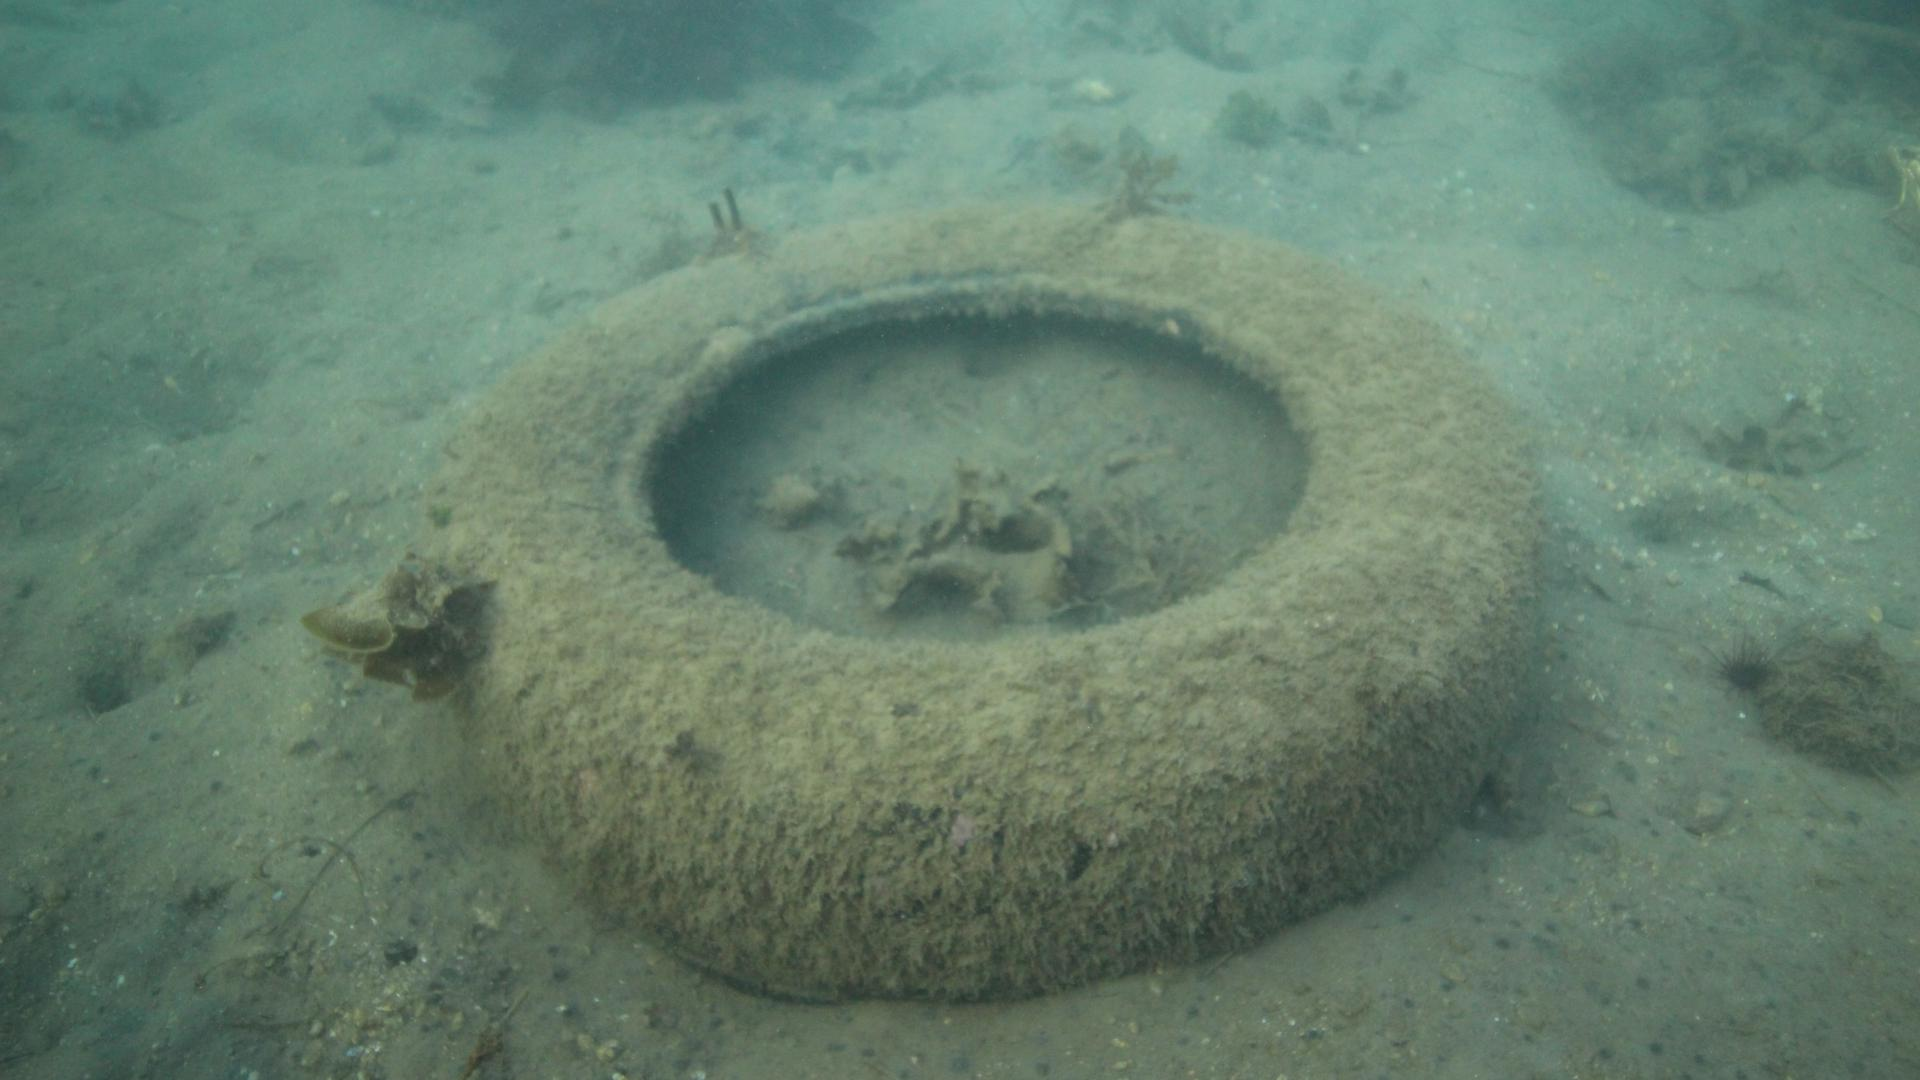tire: (406, 200, 1543, 1000)
